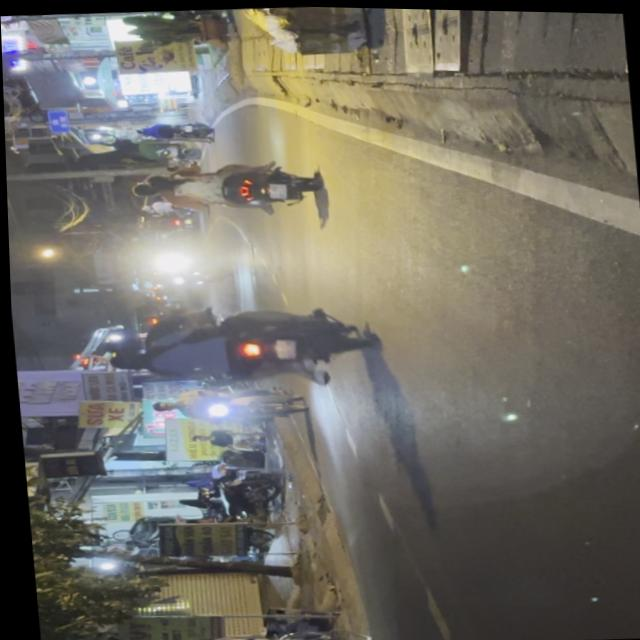helmet: (102, 350, 145, 374)
licenseplate: (88, 297, 384, 399), (123, 156, 321, 221)
motorcyclist: (140, 172, 171, 190), (126, 181, 152, 199)
nohelmet: (269, 338, 293, 359), (266, 182, 286, 199)
